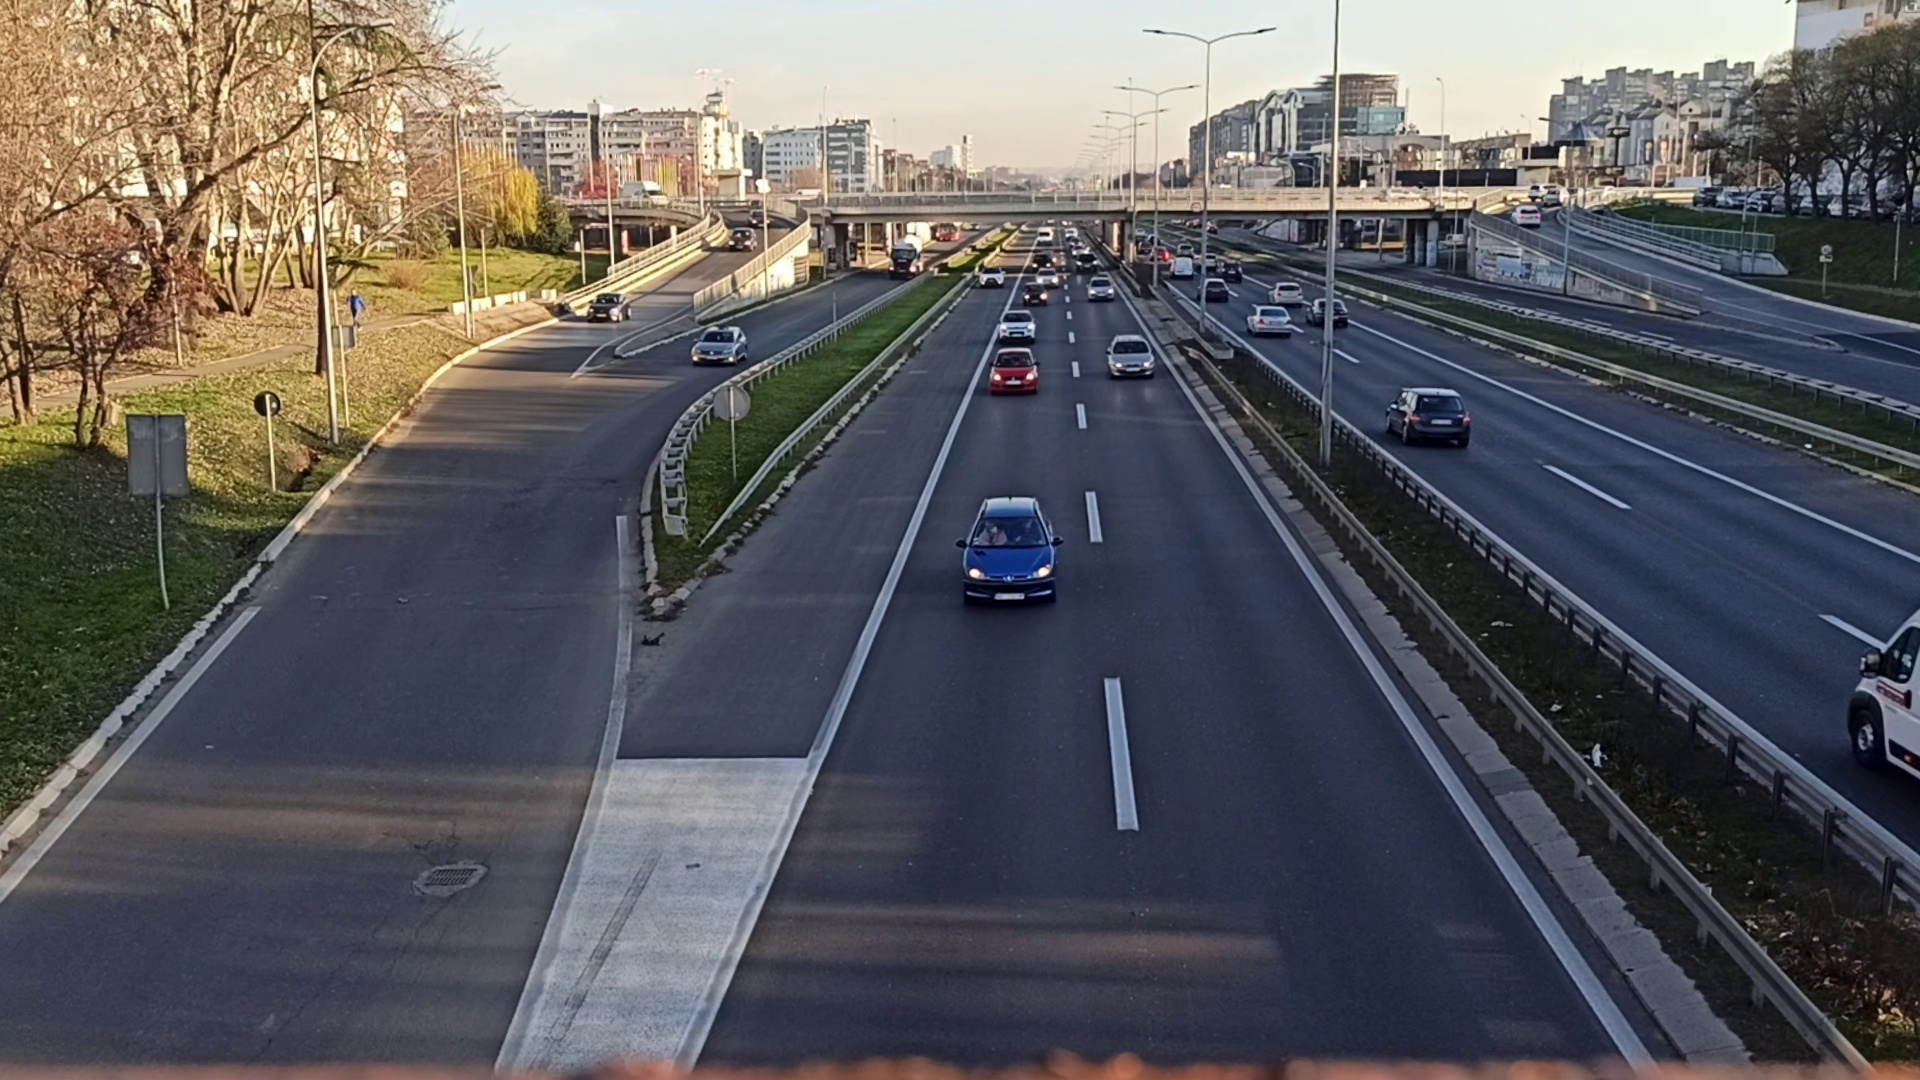car: (960, 491, 1058, 604), (1387, 385, 1472, 448), (985, 345, 1040, 396), (1105, 331, 1155, 377), (686, 328, 746, 365), (1241, 305, 1290, 336), (585, 290, 632, 323), (998, 309, 1039, 339), (1085, 276, 1116, 305)
